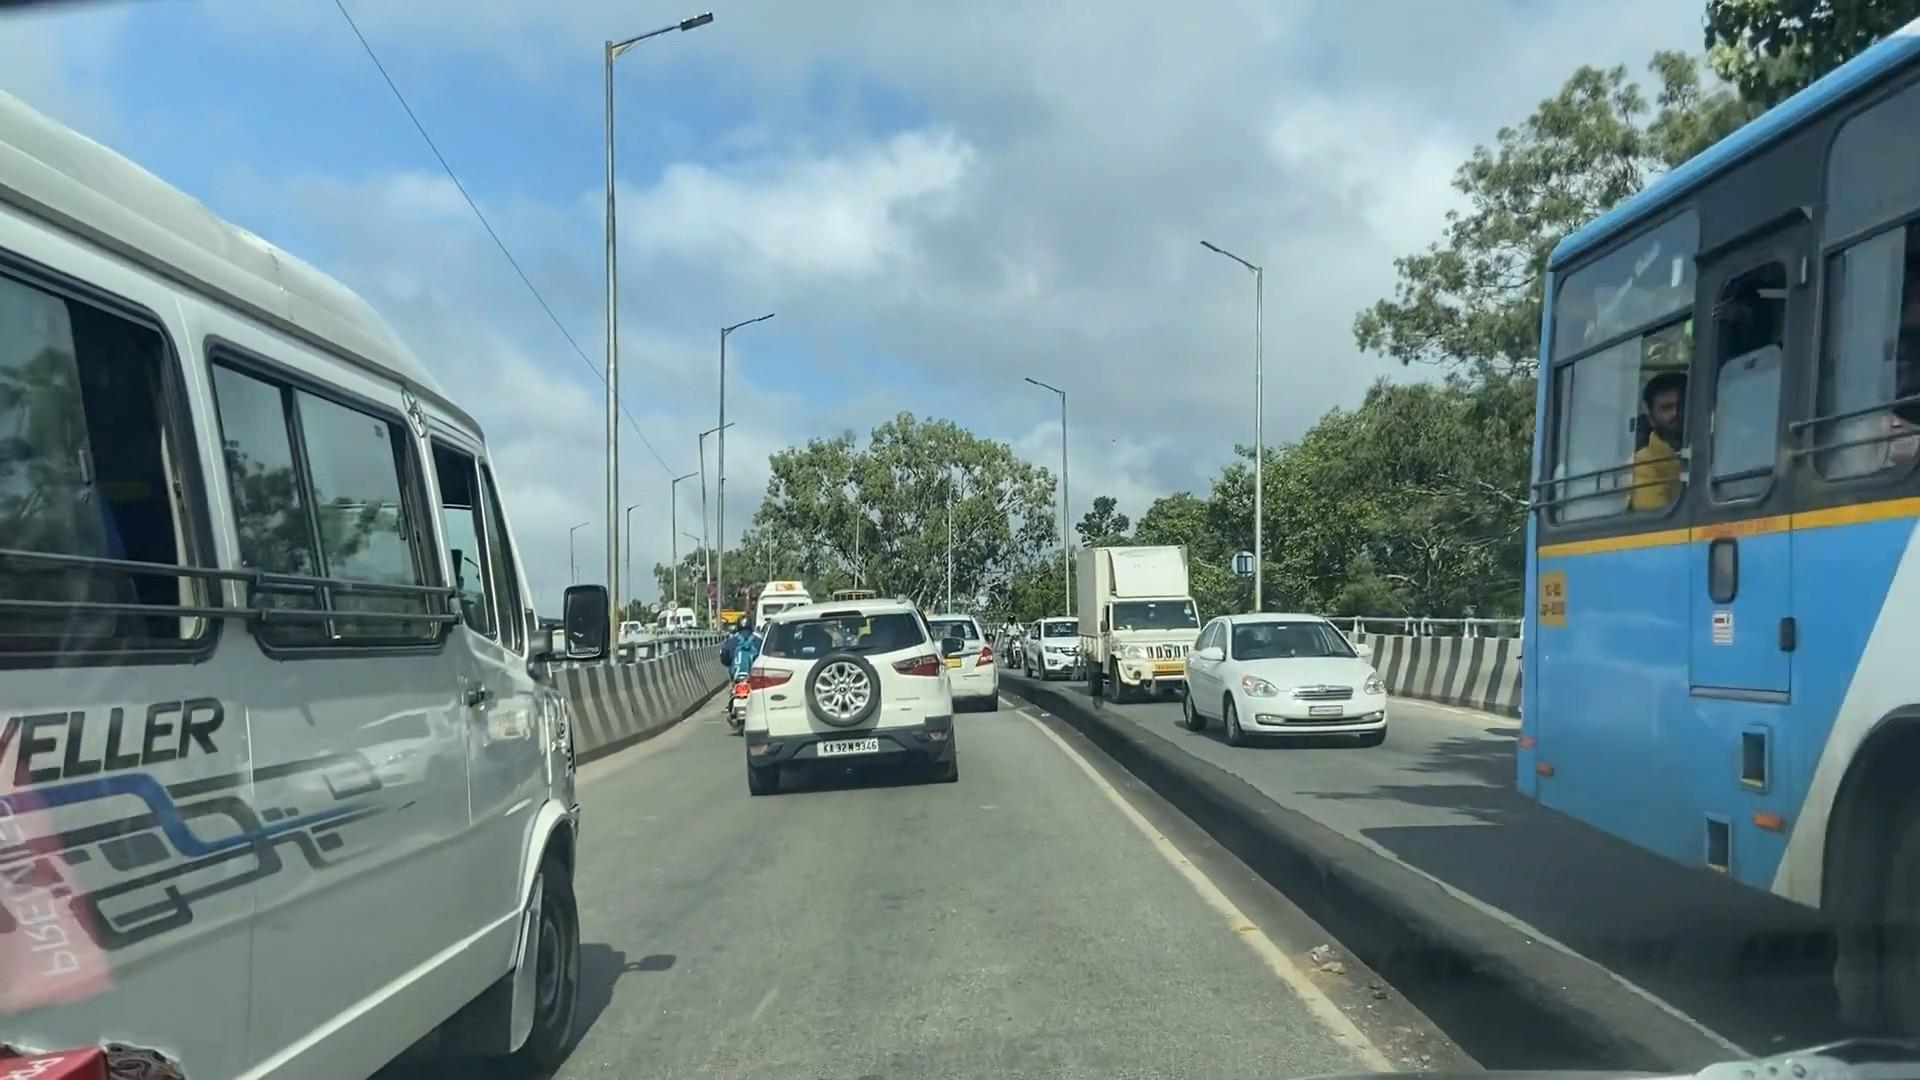LMV: (754, 612, 957, 771)
